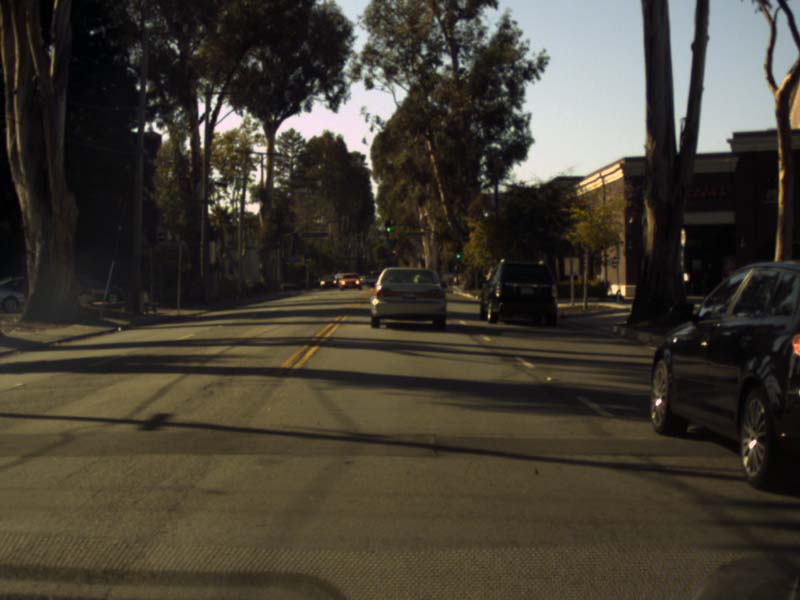Green: (454, 241, 461, 264), (384, 220, 391, 233), (304, 254, 309, 262)
Yellow: (391, 248, 396, 255)
